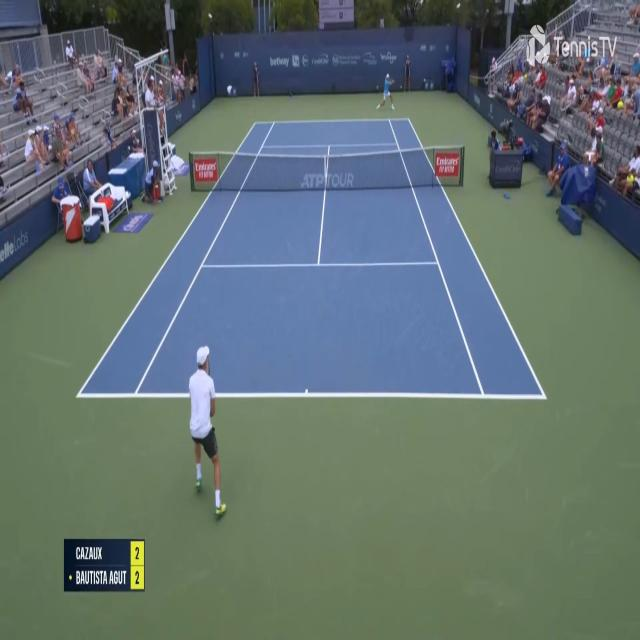tennis-player: (188, 342, 226, 521), (376, 72, 398, 113)
